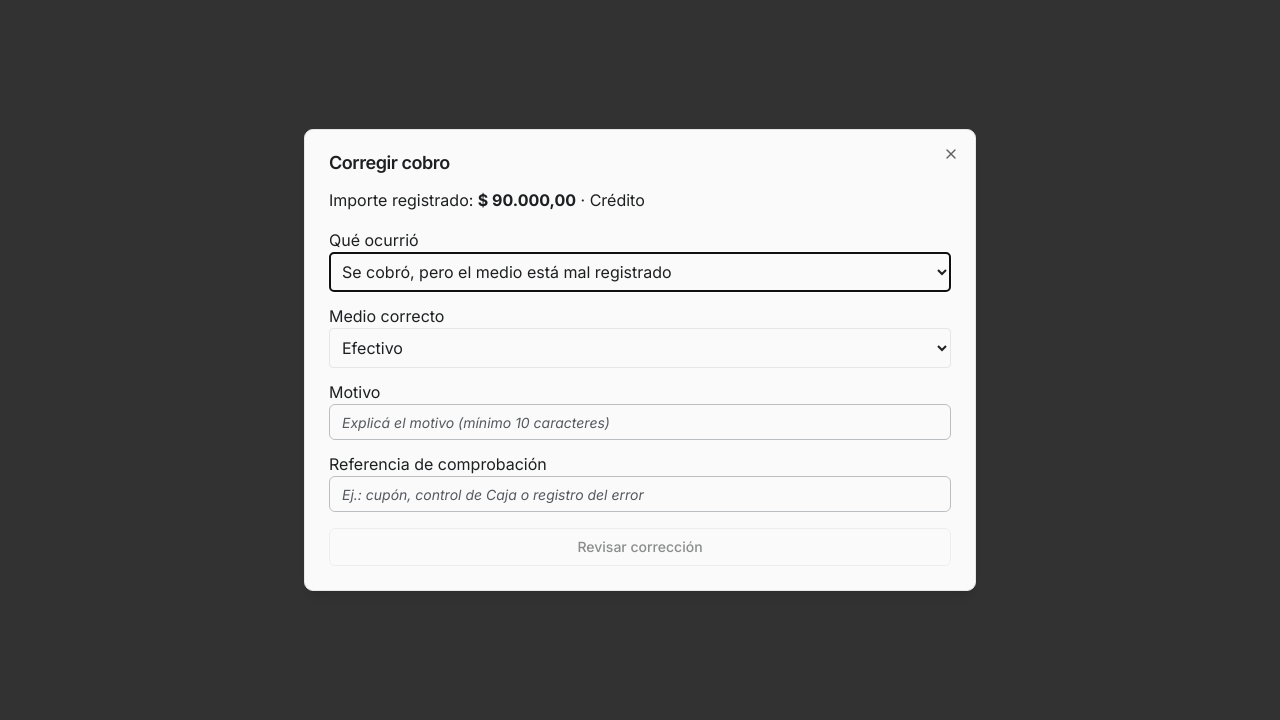
Test: a closed cash shift is reported without creating a correction
The width and height of the screenshot is (1280, 720).
Type "Registro de tarjeta incorrecto" into the field labelled "Motivo". click: (640, 422)
box: [329,404,951,440]
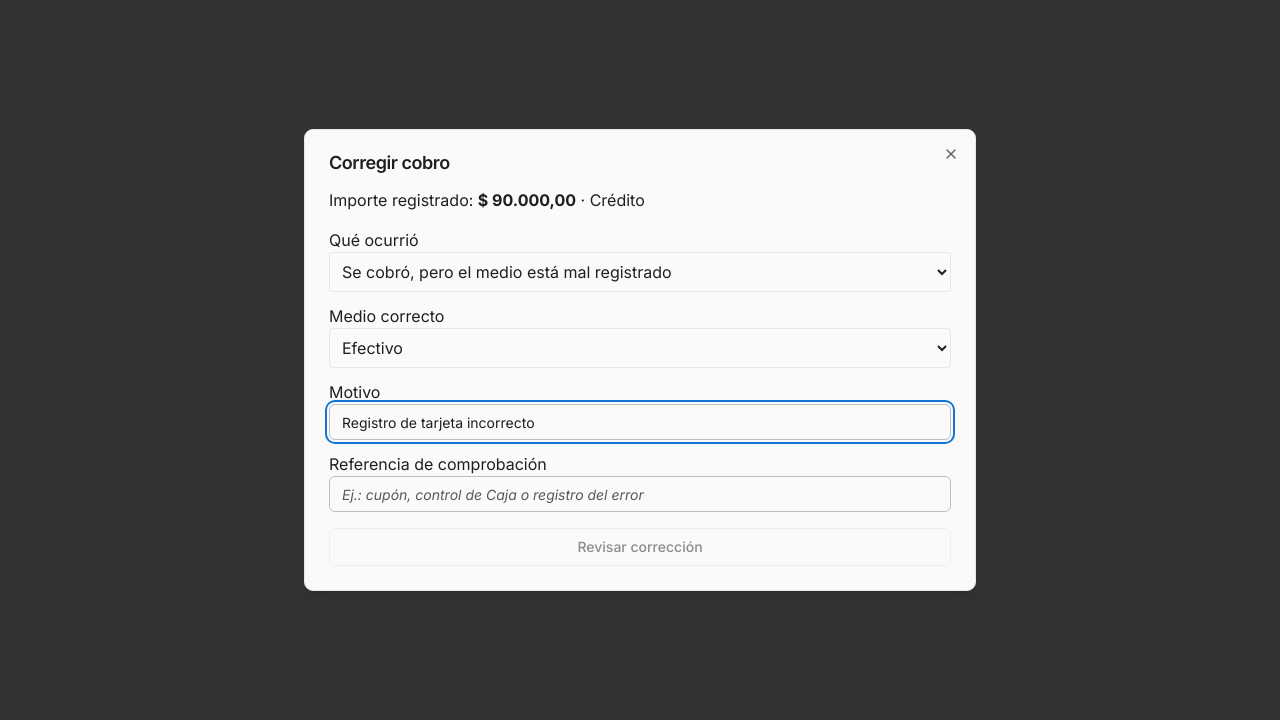
Type "Control de Caja" into the field labelled "Referencia de comprobación". click: (640, 494)
box: [329,476,951,512]
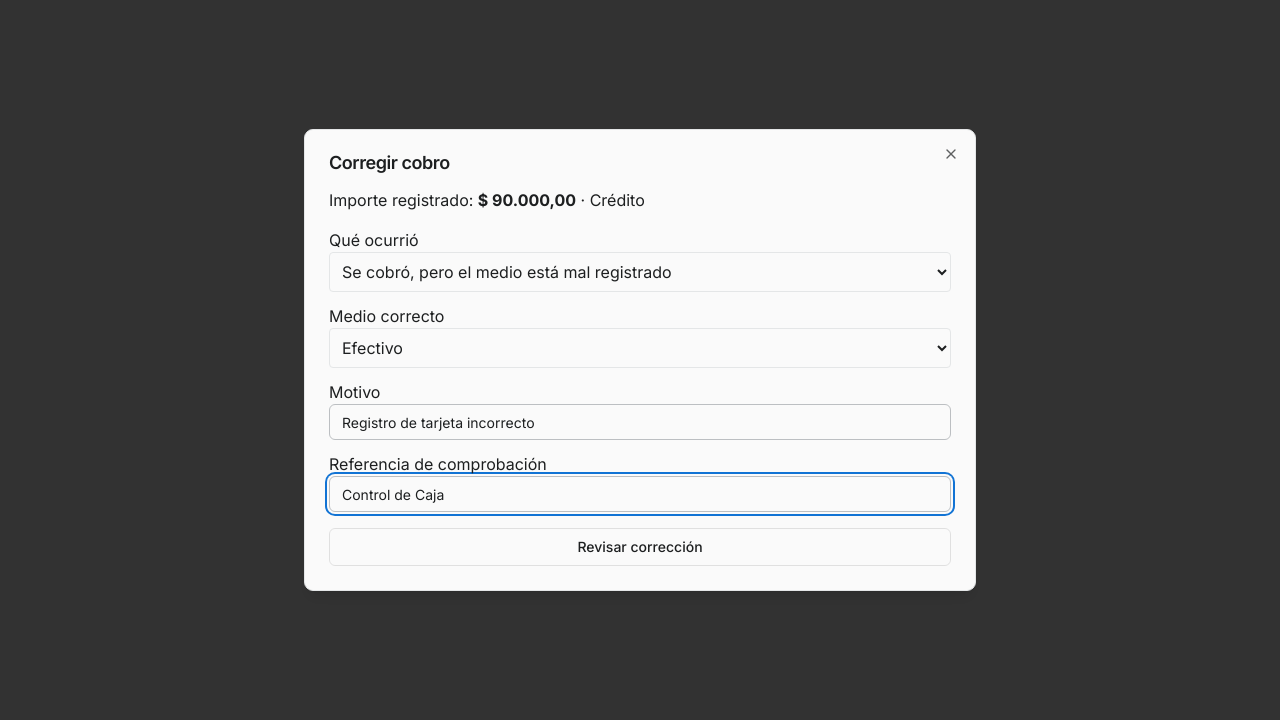
Click the button "Revisar corrección". click: (640, 547)
box: [329,528,951,566]
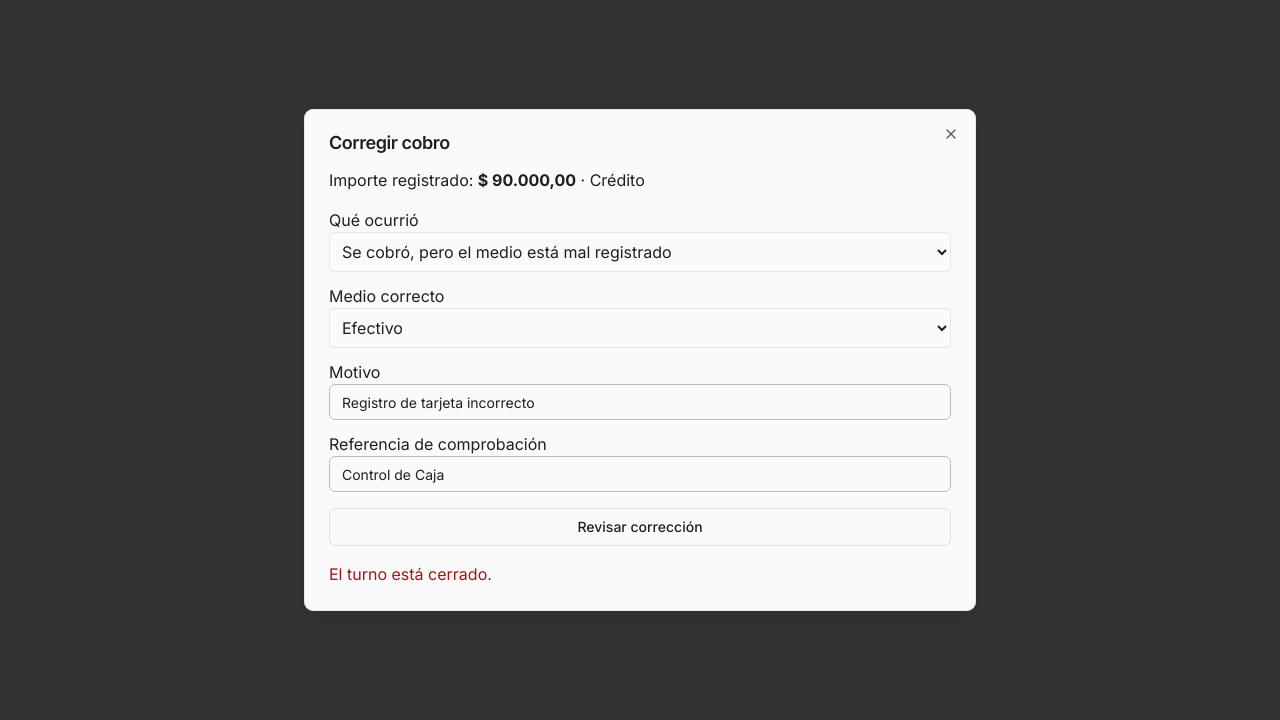
expect the message reads "El turno está cerrado.": met, box [329,564,492,584]
